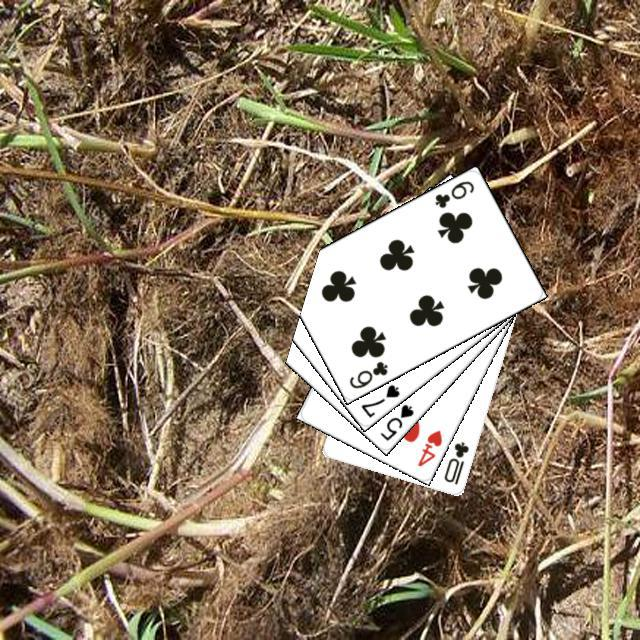10c: (439, 437, 470, 486)
4h: (412, 425, 444, 468)
5s: (375, 399, 415, 442)
6c: (429, 176, 476, 210), (344, 356, 389, 390)
7s: (356, 379, 402, 419)
